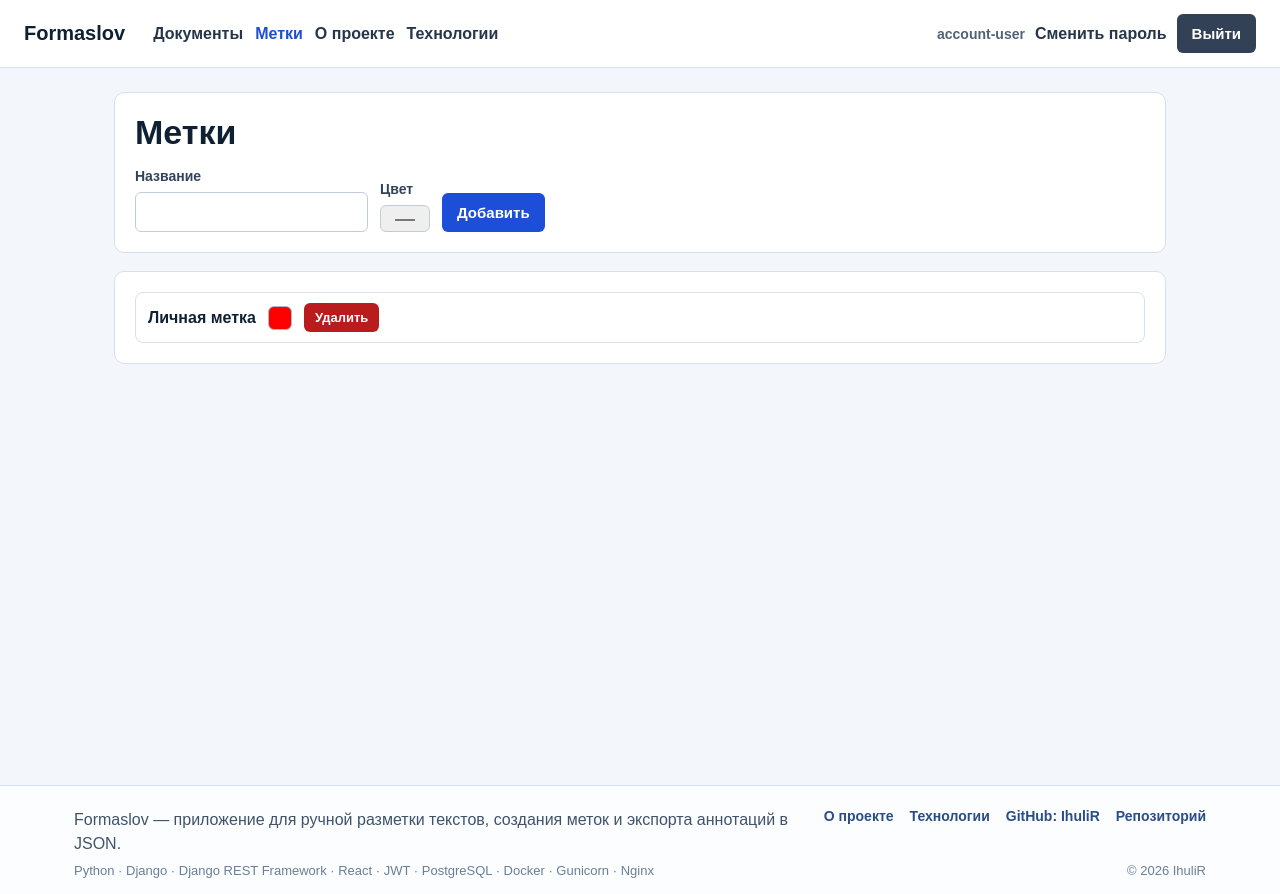
Test: logout removes labels from the UI and clears user tokens
The image size is (1280, 894).
Expected: the text "Личная метка" is shown, [148, 308, 256, 326]
What coordinates should you click on to do the following:
click the button "Выйти"
I would click on:
 (1216, 34)
Its box is [1177, 14, 1256, 53].
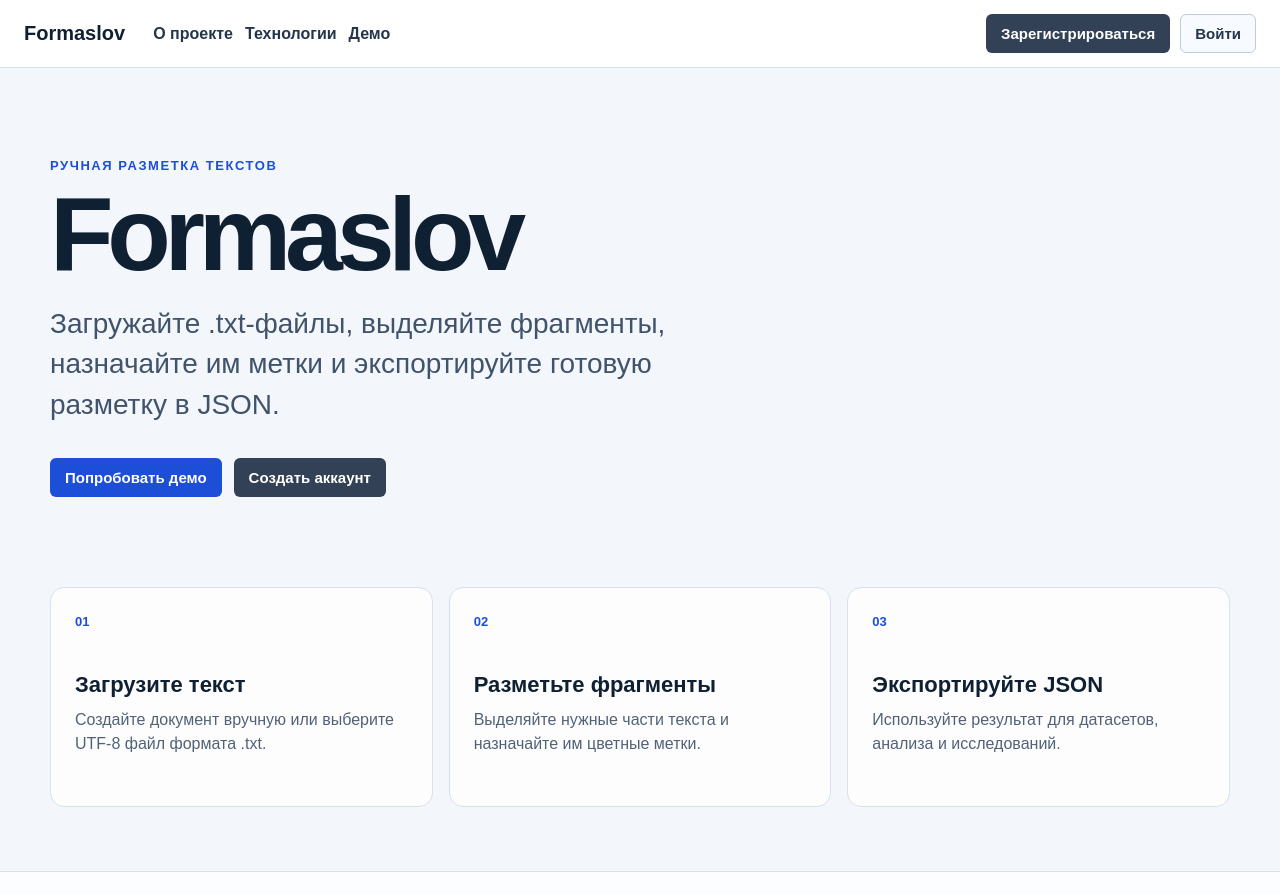
Result: the text "Личная метка" is gone
Result: the heading "Formaslov" is shown at [50, 176, 520, 292]
